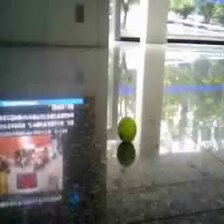tennis: (117, 118, 137, 140)
